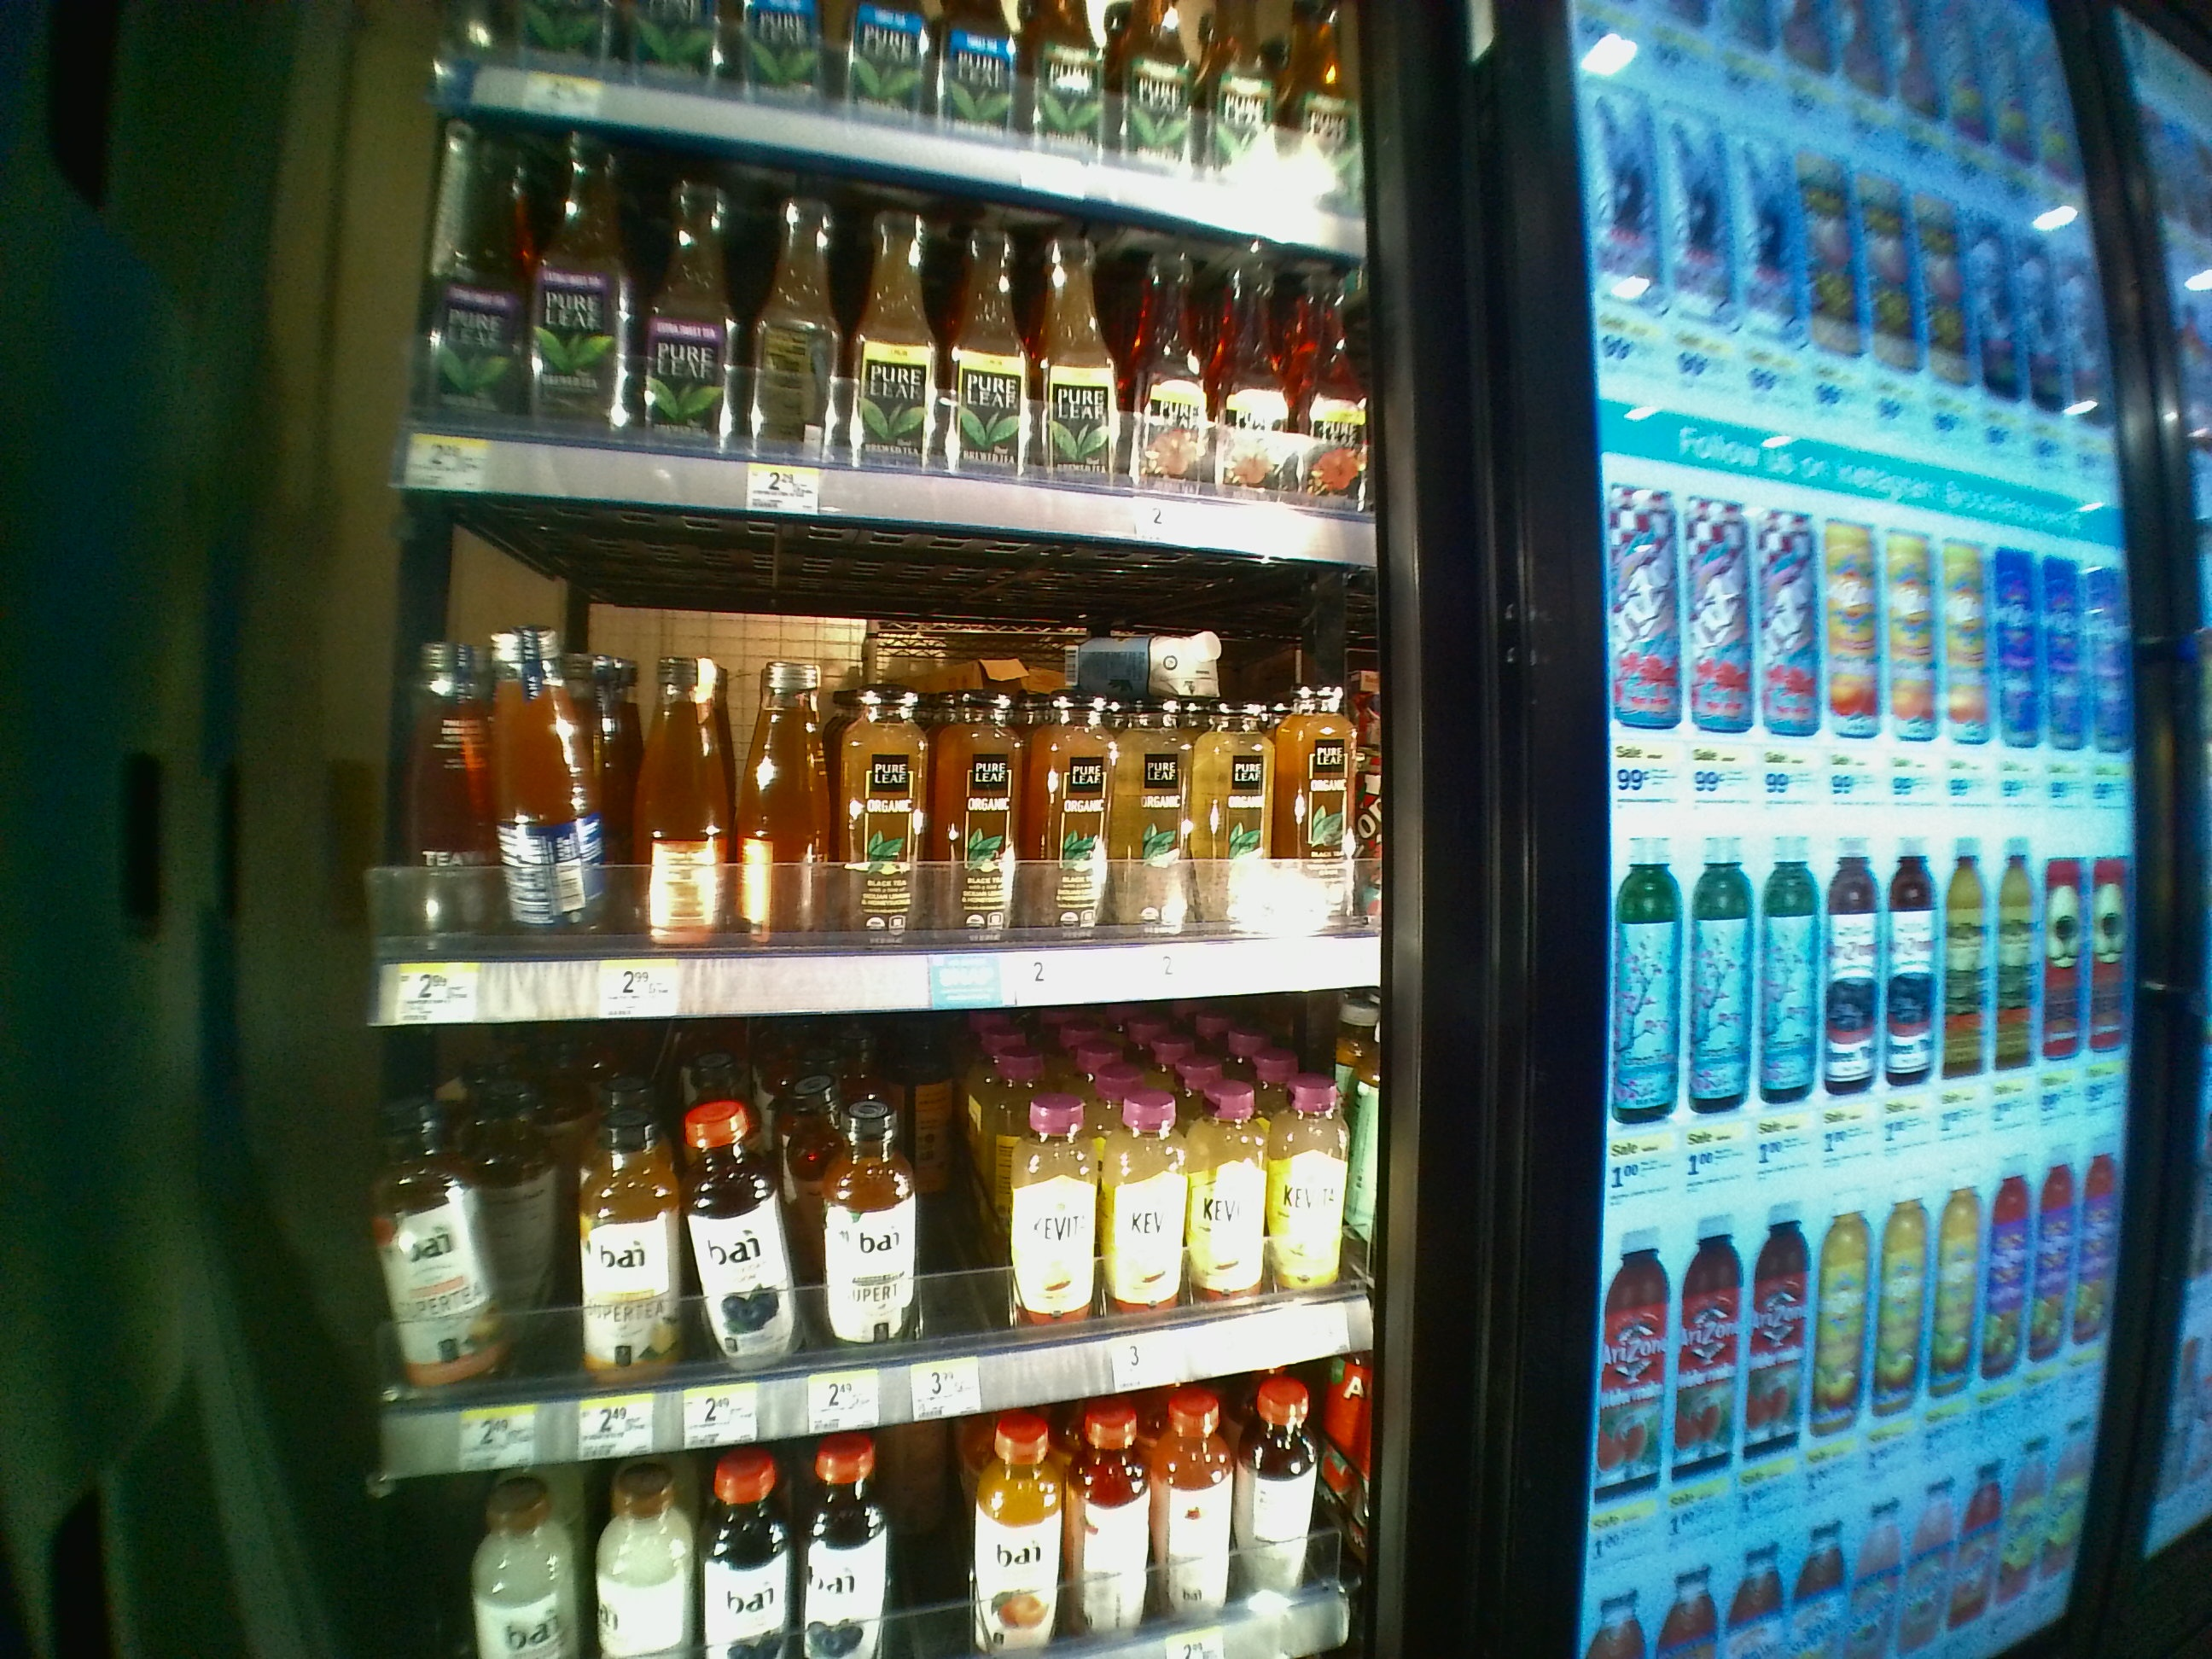shelf: (376, 500, 1385, 1025), (374, 1040, 1383, 1499)
